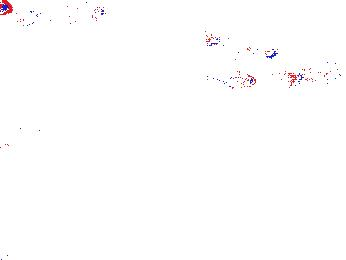red belly glassfish: (199, 69, 258, 90), (1, 1, 14, 18)
redtail glassfish: (18, 3, 112, 31), (289, 55, 346, 92), (205, 34, 280, 61)
